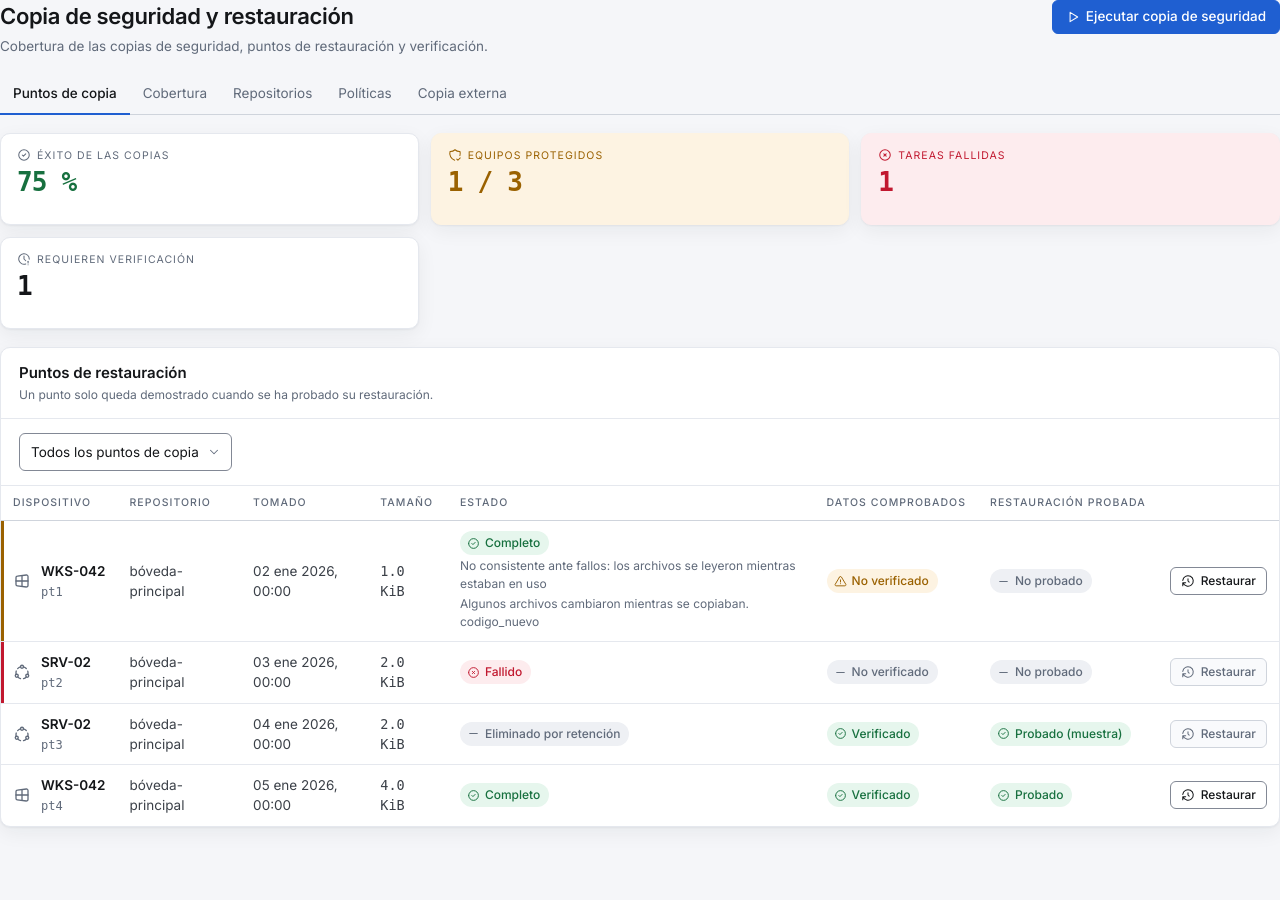
Test: the restore dialog, in Spanish › words the manifest, the targets and the verify and restore controls
Check: the text "pt1" is shown, box [41, 585, 63, 599]
Click the button "Restaurar" in the row of "pt1": [1218, 581] box [1170, 567, 1267, 595]
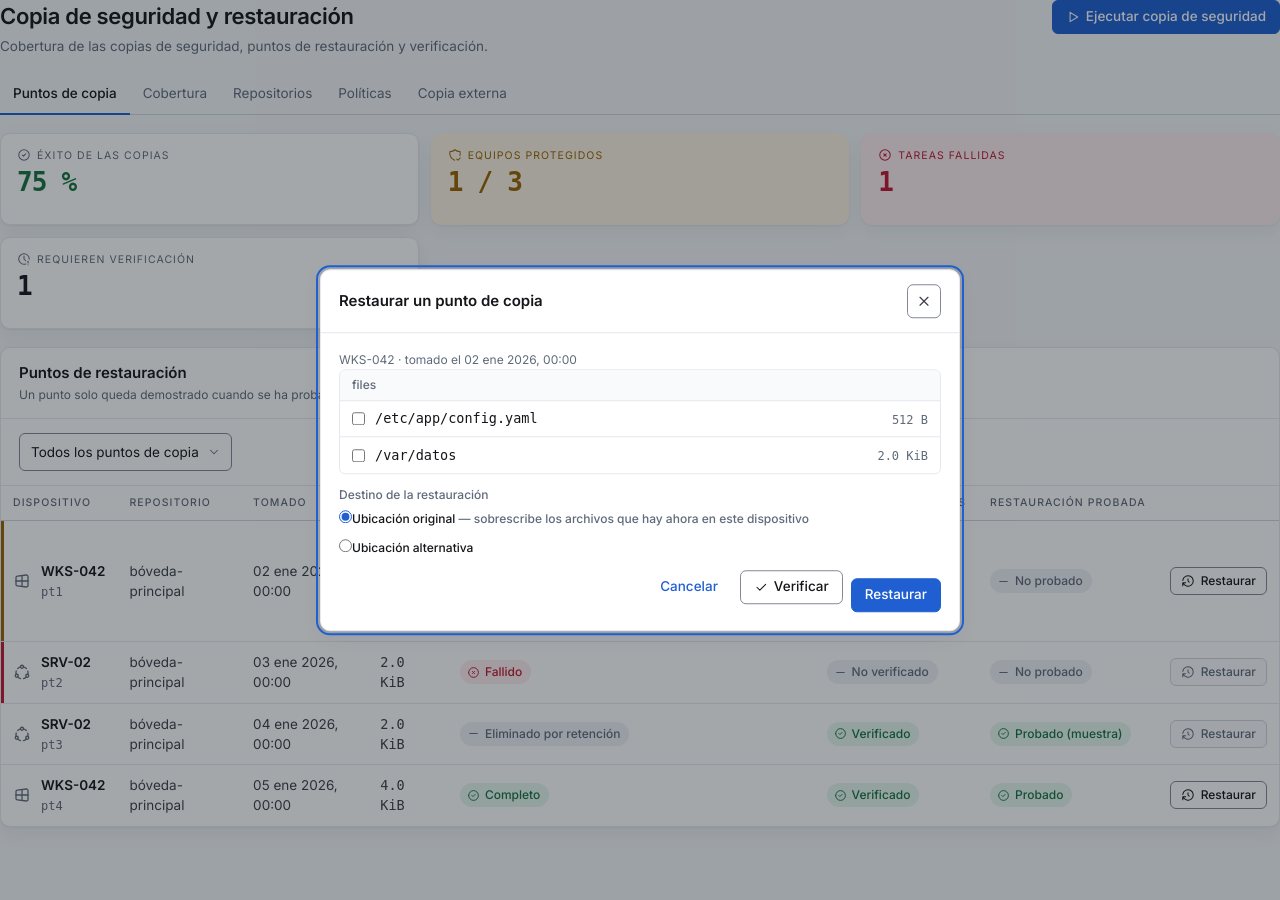
Check: the text "/etc/app/config.yaml" is shown, box [375, 411, 538, 427]
Check: the text "WKS-042 · tomado el 02 ene 2026, 00:00" is shown, box [339, 352, 577, 367]
Check: the text "Destino de la restauración" is shown, box [339, 486, 489, 504]
Click the radio button labelled "Ubicación alternativa": [346, 546] box [339, 539, 352, 552]
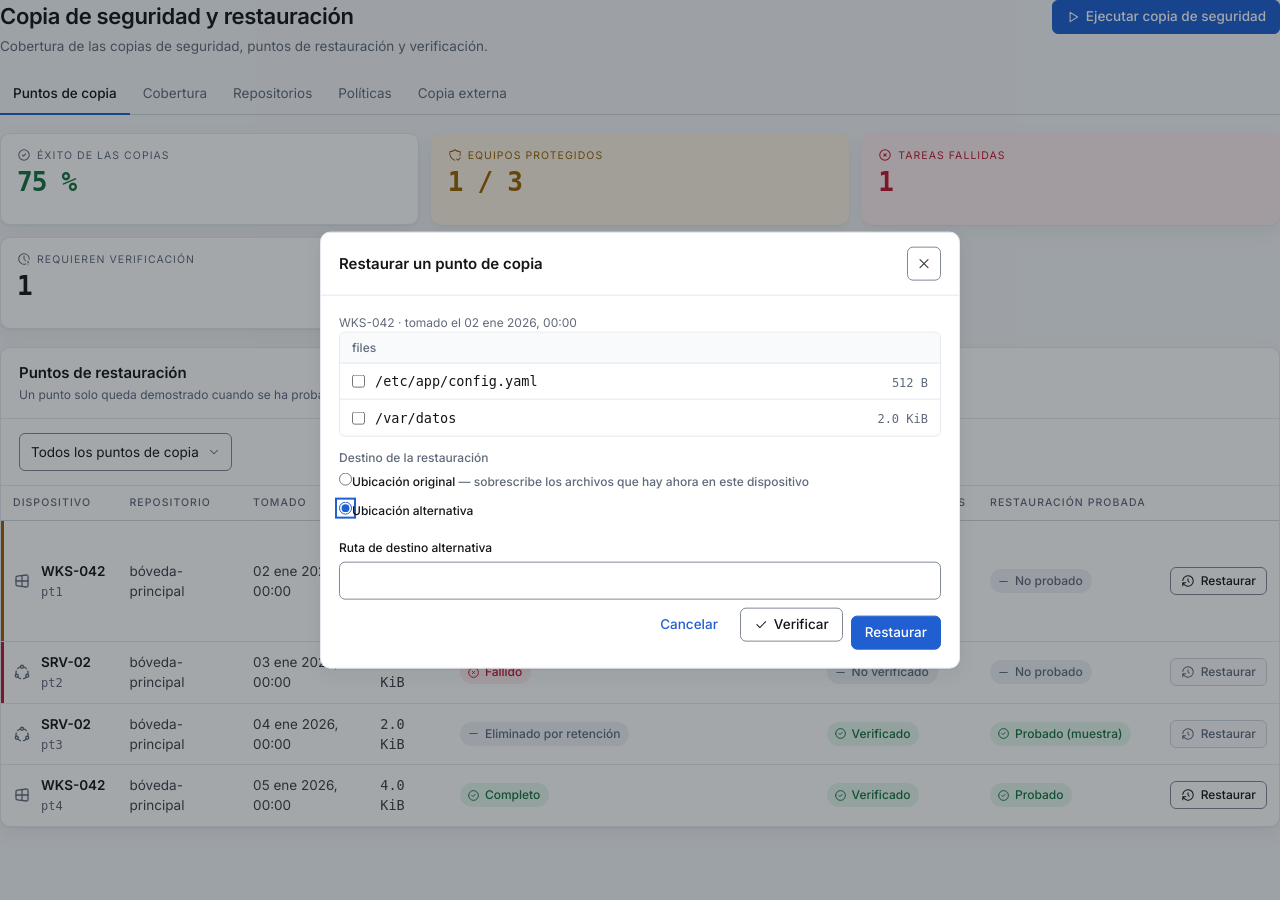
Check: the field labelled "Ruta de destino alternativa" is shown, box [339, 562, 941, 600]
